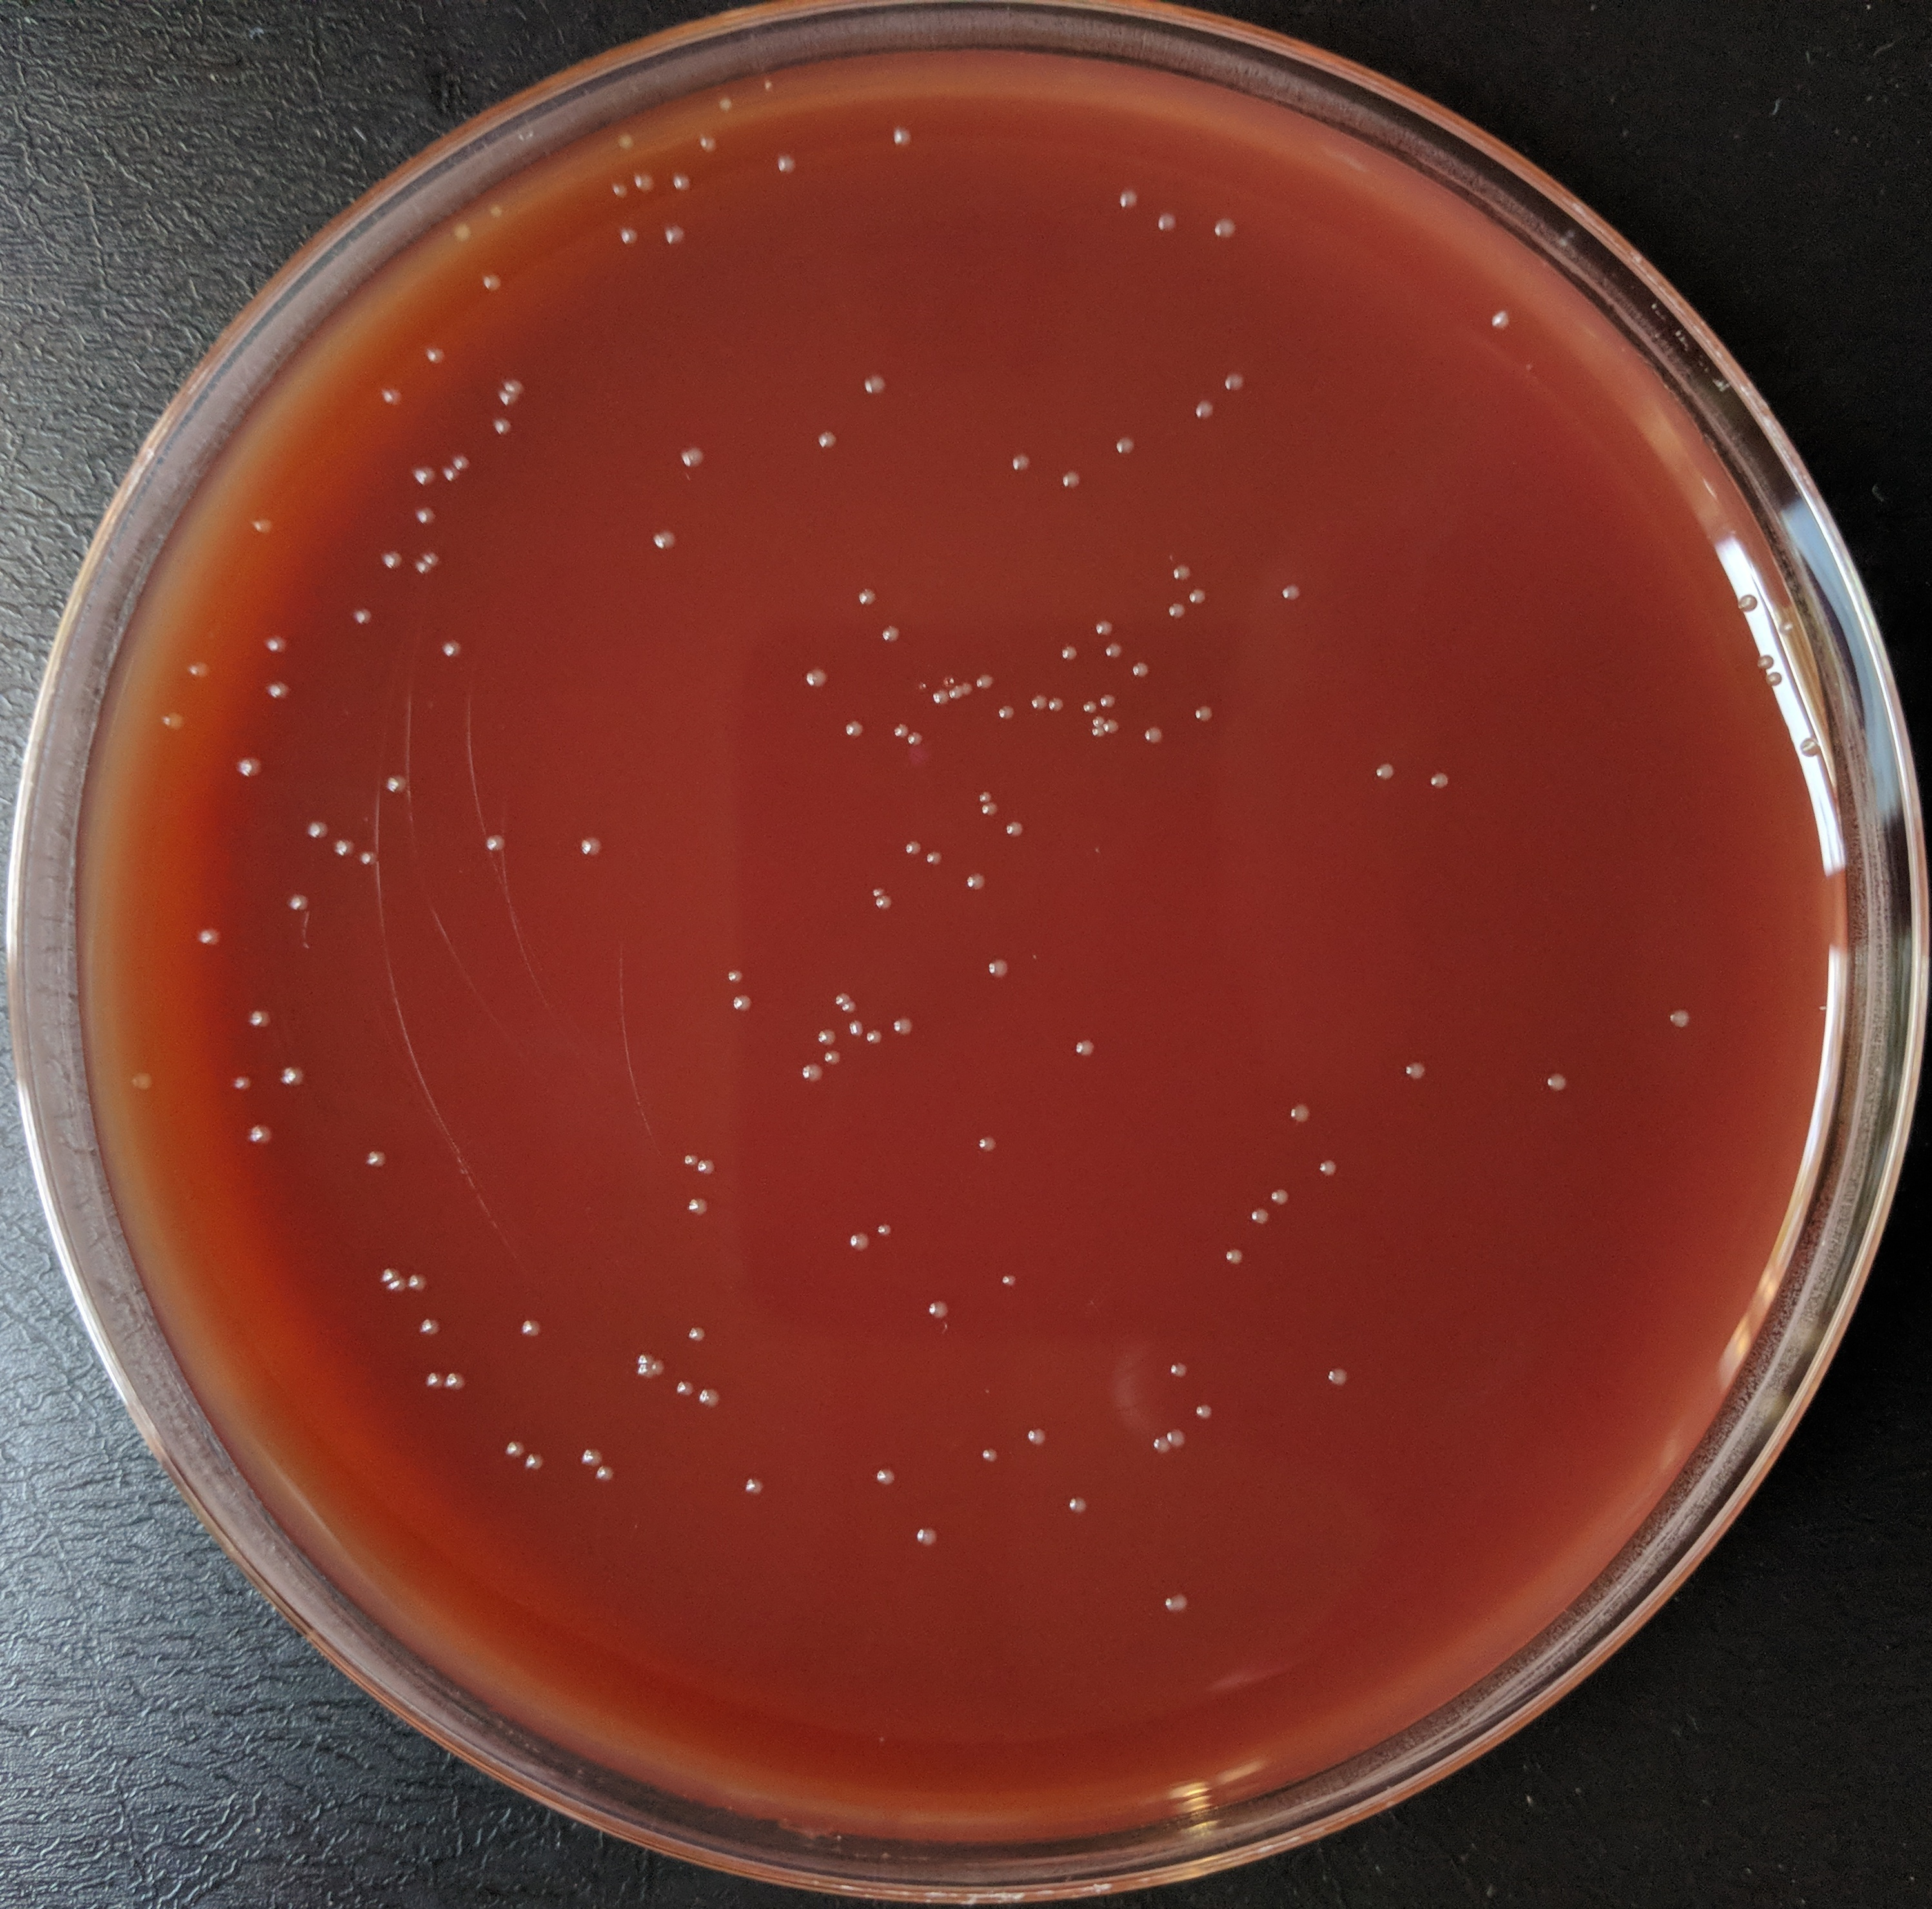sp07: (1310, 1152, 1355, 1192), (1110, 182, 1149, 224), (435, 633, 477, 670), (794, 663, 839, 696), (867, 1461, 907, 1498), (343, 601, 385, 635), (657, 219, 692, 257), (1659, 1000, 1694, 1038), (610, 220, 647, 255), (477, 829, 516, 862), (273, 1063, 315, 1093), (834, 712, 869, 746), (374, 383, 411, 416), (413, 1315, 449, 1348), (649, 524, 685, 558), (1280, 1100, 1318, 1131), (178, 654, 219, 684), (1400, 1056, 1435, 1089), (1065, 1488, 1098, 1523), (441, 1365, 474, 1400), (231, 752, 266, 785), (154, 701, 187, 736), (411, 502, 446, 535), (1217, 365, 1254, 397), (1794, 725, 1825, 762), (909, 1523, 946, 1554), (411, 1365, 448, 1397), (470, 269, 509, 299), (678, 1191, 717, 1220), (444, 219, 477, 252), (1210, 213, 1243, 246), (259, 629, 294, 661), (1152, 205, 1182, 241), (921, 1292, 958, 1322), (1156, 1587, 1192, 1617), (194, 921, 231, 951), (890, 121, 918, 159), (671, 444, 710, 472), (1217, 1243, 1257, 1269), (769, 150, 803, 182), (329, 830, 360, 864), (247, 512, 280, 544), (629, 170, 664, 199), (810, 430, 844, 460), (488, 413, 523, 442), (1068, 1033, 1103, 1063), (694, 133, 726, 164), (1005, 448, 1037, 479), (962, 864, 993, 895), (378, 544, 409, 575), (481, 196, 514, 226), (600, 173, 633, 203), (1490, 304, 1518, 339), (1275, 580, 1310, 608), (1180, 586, 1215, 614), (1126, 657, 1161, 685), (360, 1143, 388, 1178), (236, 1005, 271, 1033), (1537, 1070, 1575, 1094), (615, 128, 645, 159), (1166, 556, 1198, 586), (839, 1227, 871, 1257), (860, 372, 893, 400), (247, 1122, 275, 1156), (129, 1066, 163, 1094), (664, 173, 699, 199), (1185, 701, 1220, 727), (981, 953, 1016, 979), (573, 836, 610, 860), (1019, 1423, 1049, 1453), (1056, 465, 1088, 493), (1243, 1203, 1275, 1231), (1324, 1364, 1355, 1392), (851, 587, 885, 614), (1374, 757, 1400, 790), (841, 1014, 874, 1040), (738, 1474, 771, 1500), (694, 1383, 727, 1409), (512, 1316, 546, 1343), (381, 773, 414, 799), (1086, 614, 1121, 638), (406, 1269, 434, 1299), (586, 1461, 617, 1488), (227, 1073, 259, 1100), (283, 890, 315, 916), (872, 621, 906, 645), (991, 701, 1019, 729), (1425, 767, 1453, 795), (409, 462, 435, 491), (797, 1061, 827, 1087), (671, 1374, 701, 1400), (724, 989, 750, 1019), (357, 844, 383, 874), (813, 1026, 844, 1051), (416, 341, 449, 364), (1108, 437, 1142, 460), (1194, 392, 1217, 425), (500, 376, 535, 397), (1161, 598, 1189, 624), (1102, 636, 1128, 664), (895, 837, 923, 864), (993, 1266, 1021, 1292), (820, 1045, 846, 1073), (1060, 640, 1084, 670), (1096, 687, 1121, 717), (1266, 1185, 1296, 1210), (575, 1446, 605, 1470), (970, 1135, 1002, 1157), (266, 678, 297, 701), (1166, 1357, 1192, 1383), (715, 91, 743, 115), (435, 460, 460, 488), (883, 718, 911, 743), (1142, 720, 1166, 748), (1004, 816, 1028, 844), (1761, 668, 1785, 696), (1145, 1432, 1173, 1456), (1189, 1402, 1219, 1425), (976, 1444, 1005, 1467), (976, 670, 1000, 696), (1736, 591, 1762, 615), (684, 1322, 710, 1346), (385, 1274, 411, 1299), (500, 1435, 528, 1458), (491, 392, 521, 413), (448, 453, 479, 472), (928, 685, 953, 710), (378, 1262, 402, 1287), (1028, 689, 1051, 715), (904, 731, 928, 753), (892, 1014, 916, 1037), (860, 1024, 885, 1047), (523, 1449, 546, 1474), (874, 892, 900, 913), (1750, 650, 1776, 671), (720, 965, 747, 986), (304, 816, 332, 836), (1044, 694, 1067, 717), (692, 1157, 717, 1178), (1168, 1425, 1185, 1453), (416, 549, 444, 566), (1100, 717, 1122, 738), (955, 677, 974, 701), (925, 846, 949, 865), (872, 1218, 900, 1234), (649, 1355, 666, 1379), (867, 883, 893, 899), (675, 1149, 701, 1164), (761, 77, 780, 98), (979, 801, 1000, 820), (832, 988, 853, 1007), (631, 1362, 652, 1381), (1086, 724, 1105, 743), (837, 1000, 864, 1014), (416, 554, 430, 580), (974, 787, 993, 804), (1089, 712, 1107, 729), (1081, 696, 1095, 717), (633, 1351, 654, 1365), (946, 685, 962, 703), (914, 678, 928, 692), (937, 673, 958, 682)
